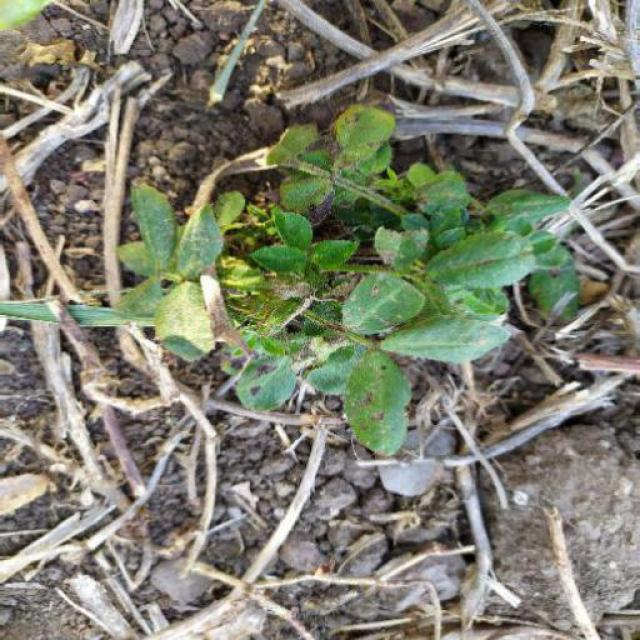weed: (126, 132, 615, 452)
